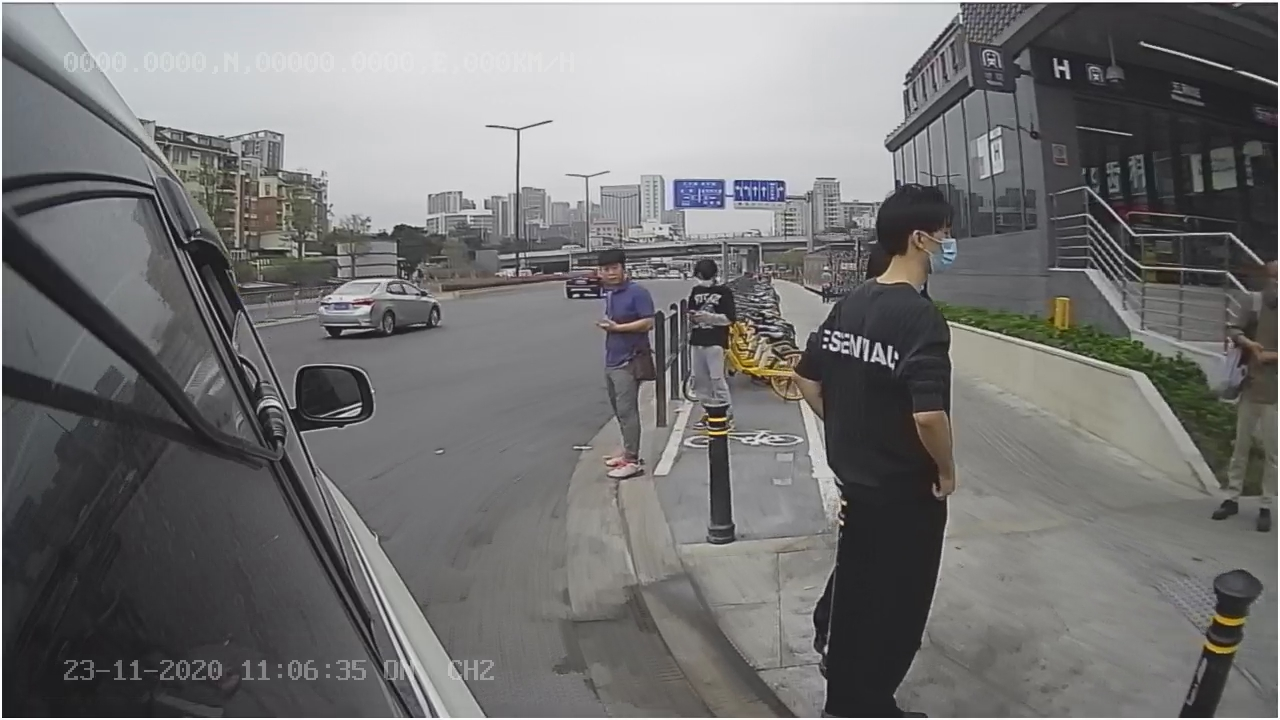person: (583, 247, 664, 490)
